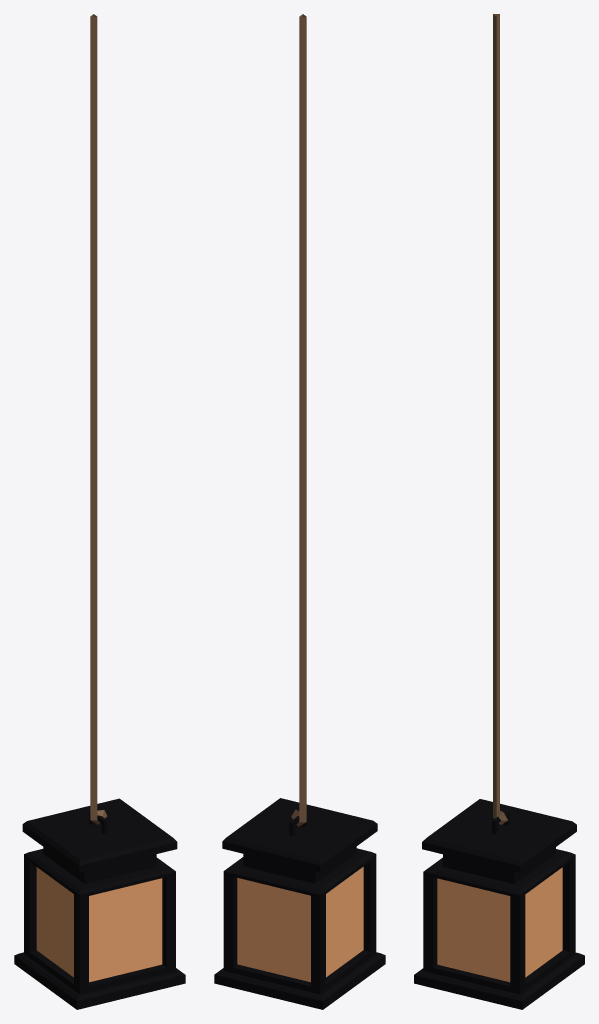
File: CandleLamp.glb
3 renders of one model, left to right at view 1: azimuth 30°, elevation 25°; view 2: azimuth 150°, elevation 25°; view 3: azimuth 330°, elevation 25°, orthographic.
Visible parts, largest first — view 1: Candle Lamp; view 2: Candle Lamp; view 3: Candle Lamp.
Boxes of the visible parts, x1,y1,x2,y2 form: Candle Lamp: [14, 14, 185, 1009]; Candle Lamp: [214, 14, 385, 1009]; Candle Lamp: [414, 14, 584, 1009].
Bounding box in the file's own units: 0.1004 × 0.8475 × 0.1004.
